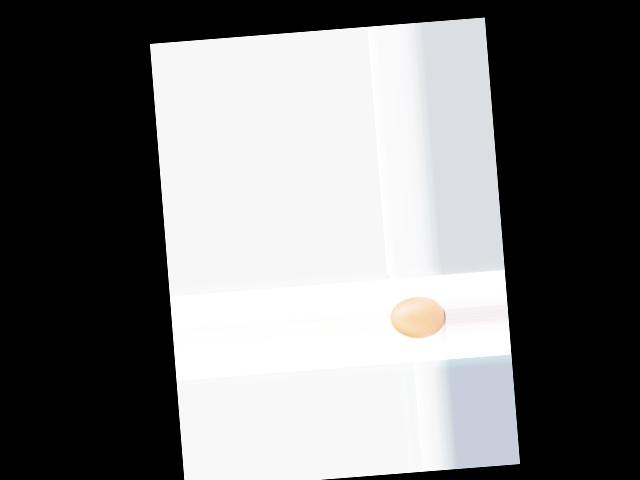egg: (389, 295, 446, 340)
